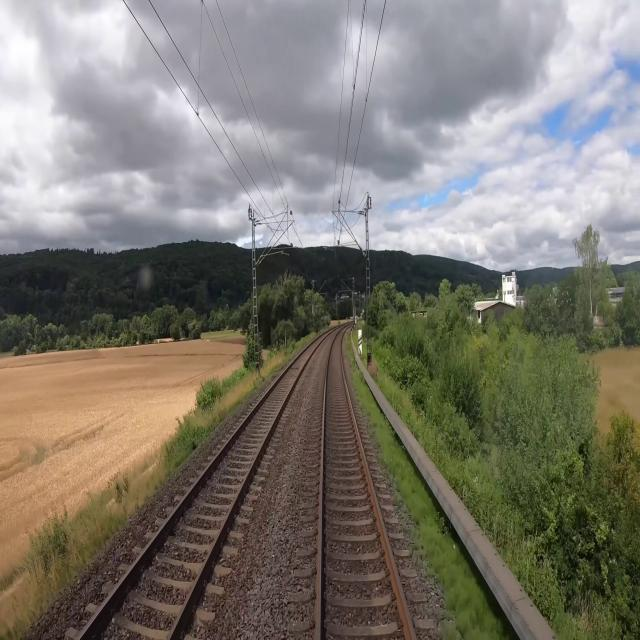Plant: (347, 348, 477, 639)
